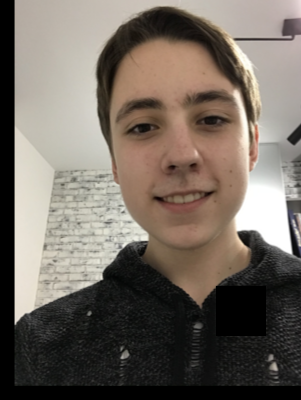without_mask: (105, 88, 253, 250)
